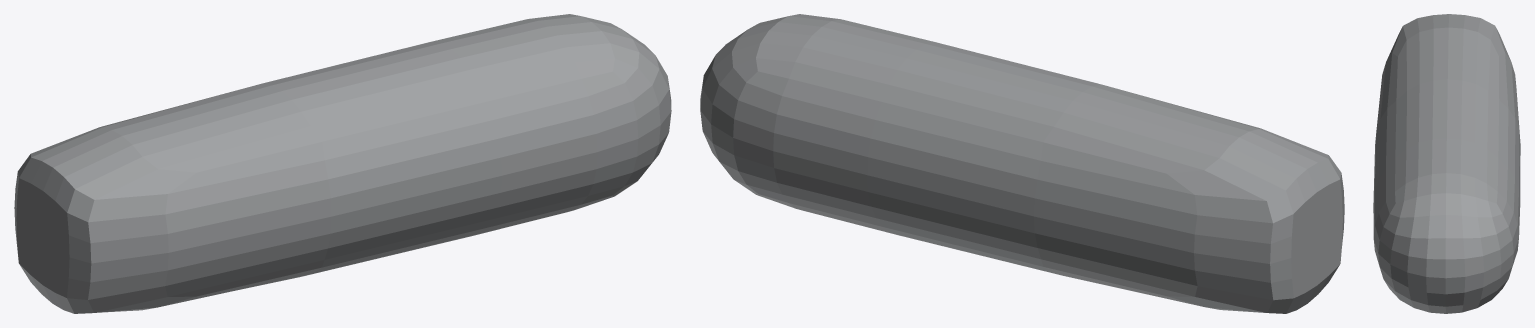
The model's file is Arm_have.obj.
The picture shows the model from 3 angles, left to right: view 1: azimuth 30°, elevation 25°; view 2: azimuth 150°, elevation 25°; view 3: azimuth 270°, elevation 25°; orthographic projection. The views are drawn at different scales.
Parts seen in each view (by area): view 1: Cube; view 2: Cube; view 3: Cube.
Boxes of the visible parts, <box> form: Cube: <box>14,14,671,313</box>; Cube: <box>700,14,1344,313</box>; Cube: <box>1373,14,1520,313</box>.
Size of the model in its own units: 1.74 by 0.4839 by 0.4918.
Materials: 1 (1 with a texture image).
